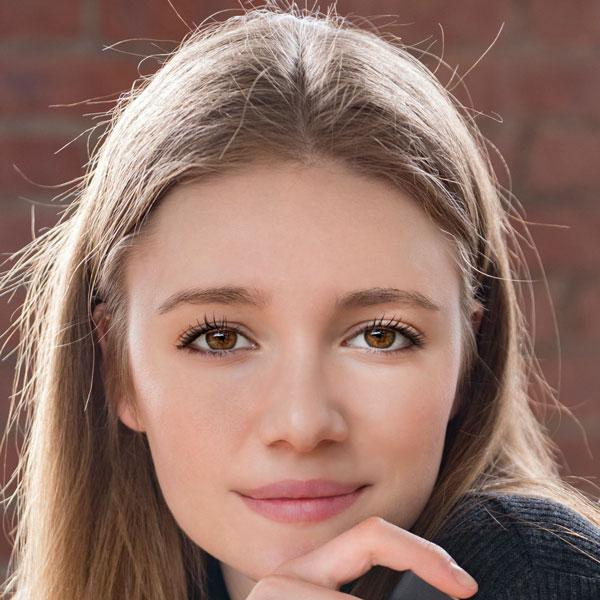Eyes: (166, 309, 274, 374), (324, 305, 429, 371)
